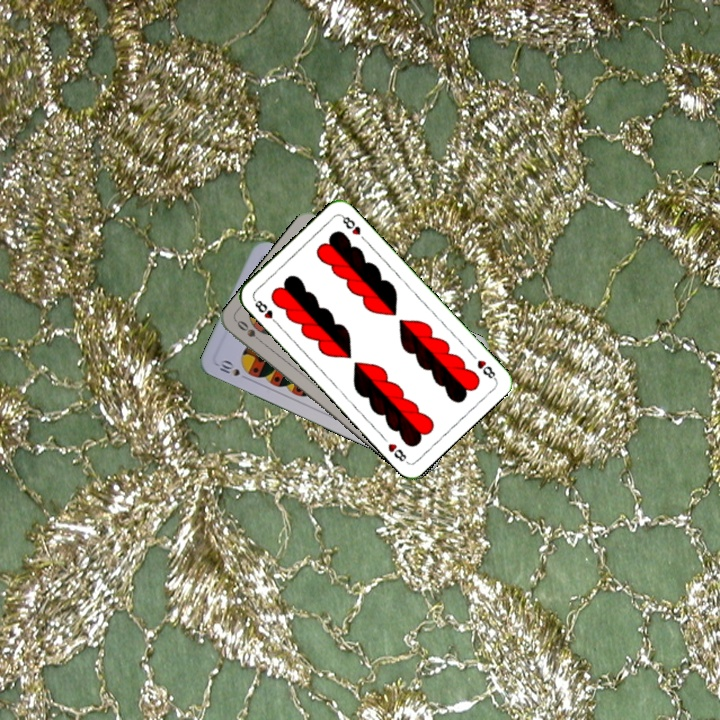H8: (249, 295, 281, 328), (473, 356, 499, 382)
S10: (215, 356, 252, 383)
SO: (232, 316, 267, 347)
